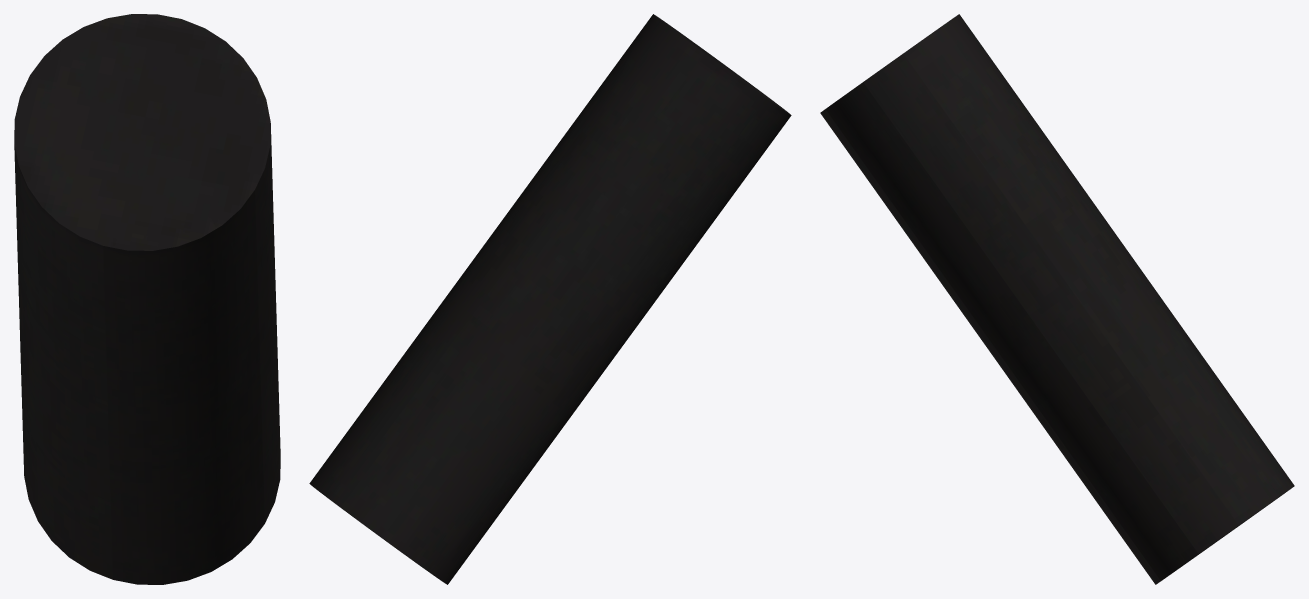
File: left_handlebar__left_bar_0.glb
3 renders of one model, left to right at view 1: azimuth 30°, elevation 25°; view 2: azimuth 150°, elevation 25°; view 3: azimuth 270°, elevation 25°, orthographic. The views are drawn at different scales.
Visible parts, largest first — view 1: geometry_0; view 2: geometry_0; view 3: geometry_0.
Boxes of the visible parts, left/top/right/bottom form: geometry_0: left=14, top=14, right=280, bottom=584; geometry_0: left=309, top=14, right=791, bottom=584; geometry_0: left=820, top=14, right=1294, bottom=584.
Size of the model in its own units: 0.0592 by 0.0888 by 0.0778.
Materials: 1 (1 with a texture image).
